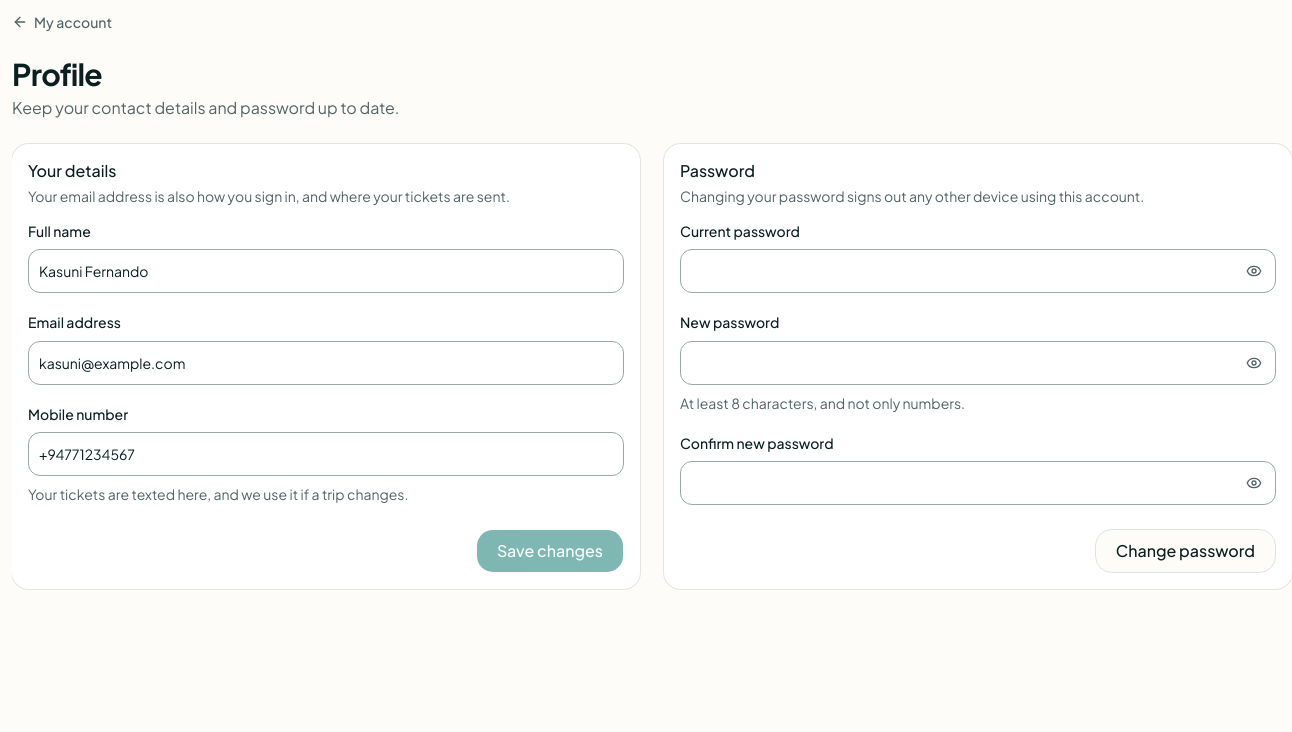
Test: ProfileSettings › reports a wrong current password from the server
In the password field labelled "Current password": (978, 271) [680,249,1276,293], type "wrong-password"
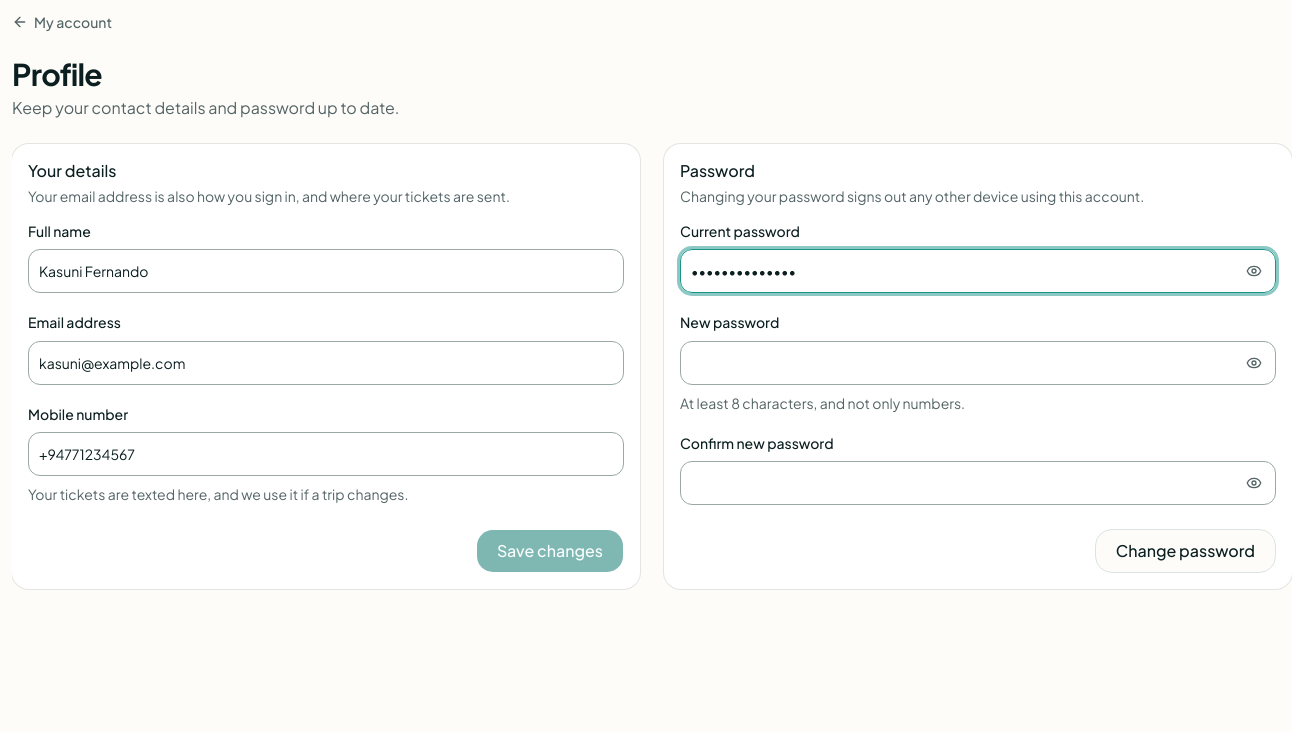
In the password field labelled "New password": (978, 362) [680,340,1276,384], type "Kandy-Express-2027"
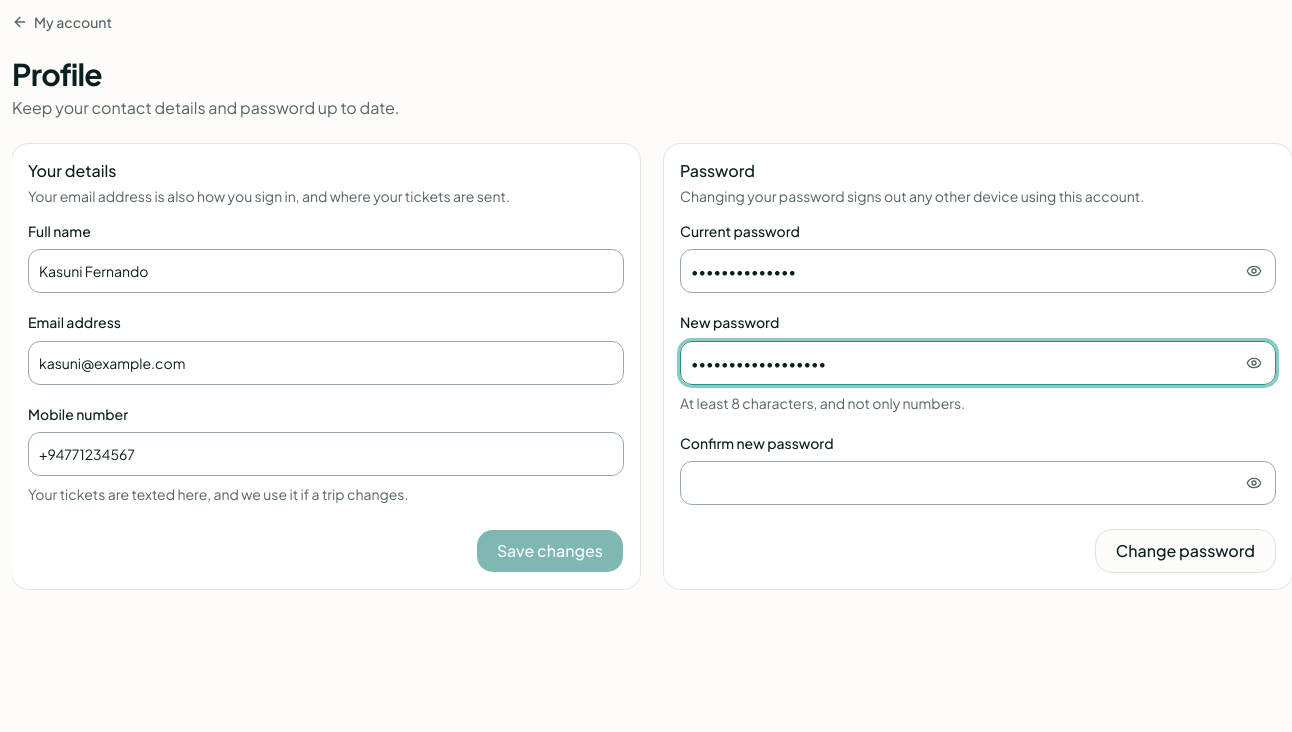
In the password field labelled "Confirm new password": (978, 483) [680,461,1276,505], type "Kandy-Express-2027"
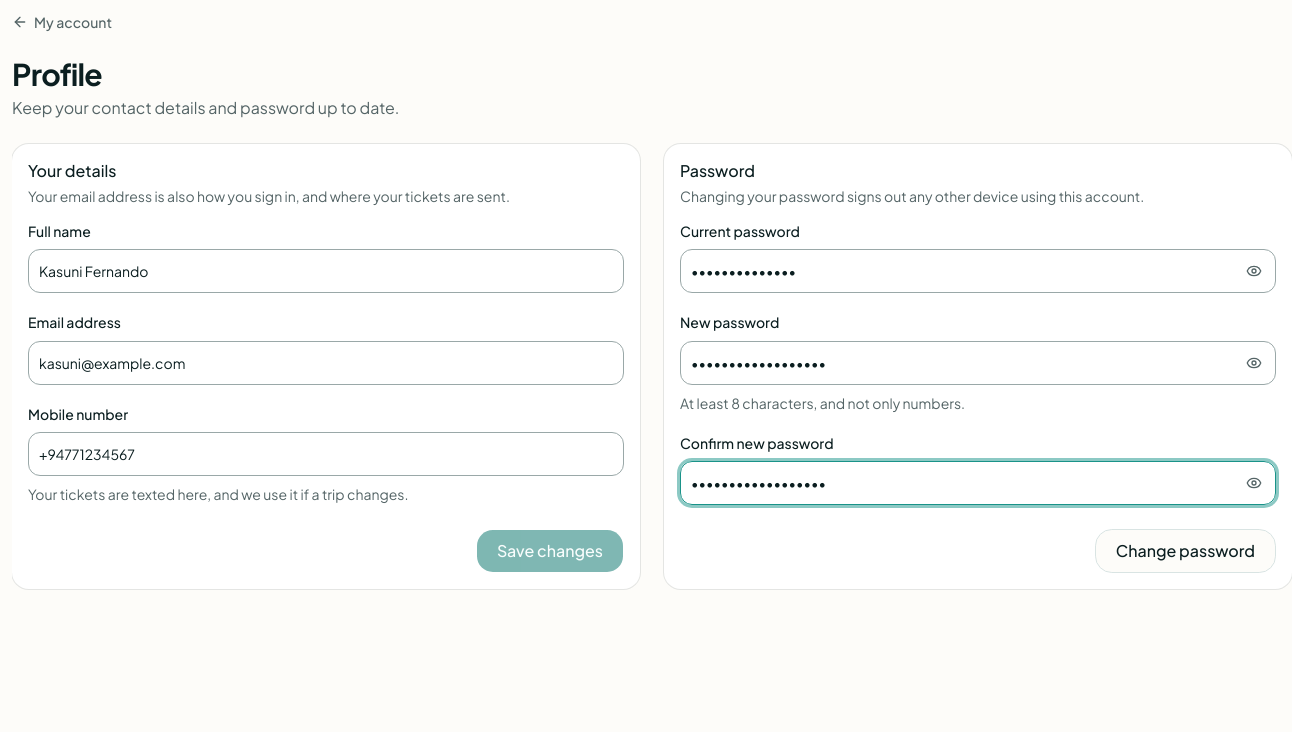
Click the button "Change password": (1185, 551) [1095,529,1276,573]
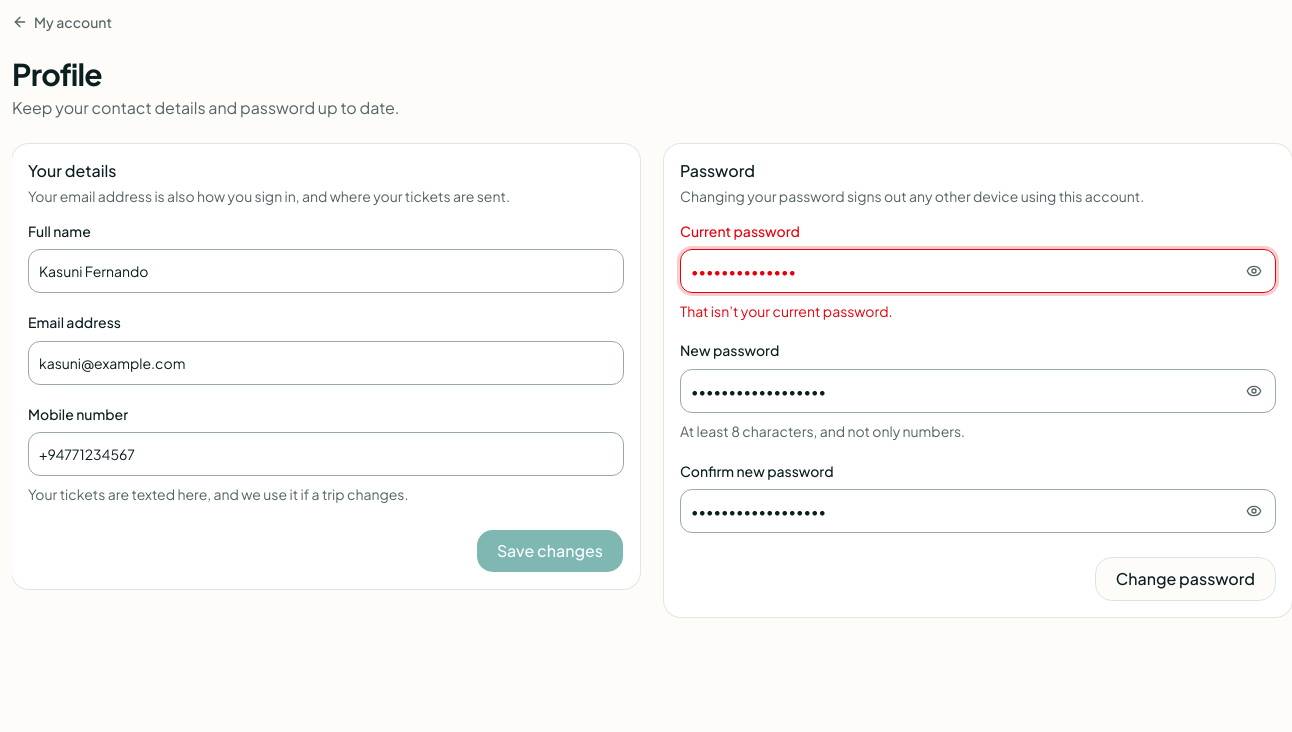
Now the text "That isn’t your current password." is shown, box [680,302,892,320]
